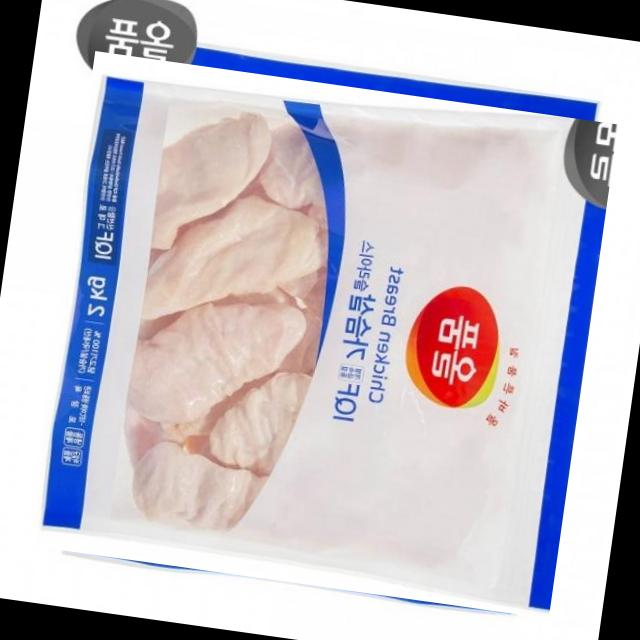chicken: (31, 45, 612, 624)
